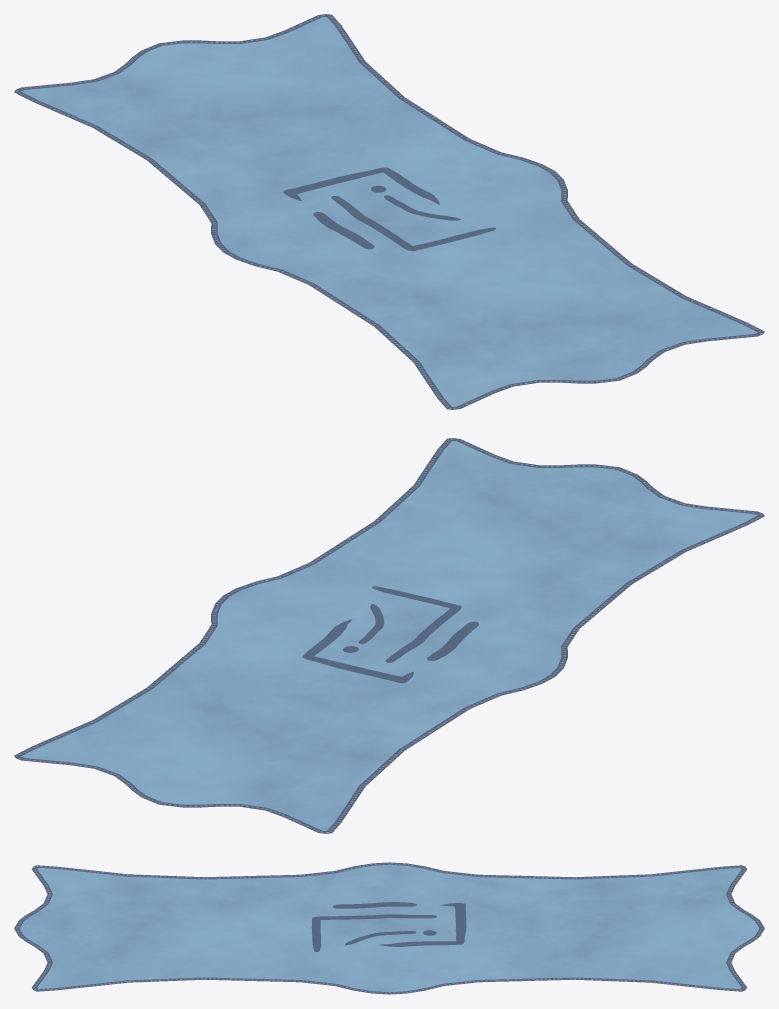
The model's file is Teppich_01.fbx.
3 views of the same model, one above another, from view 1: azimuth 30°, elevation 25°; view 2: azimuth 150°, elevation 25°; view 3: azimuth 270°, elevation 25° (orthographic). The views are drawn at different scales.
Parts seen in each view (by area): view 1: Teppich_01; view 2: Teppich_01; view 3: Teppich_01.
Boxes of the visible parts, bbox=[...] form: Teppich_01: bbox=[14, 14, 764, 409]; Teppich_01: bbox=[14, 438, 764, 833]; Teppich_01: bbox=[14, 862, 764, 994].
Size of the model in its own units: 2.19 by 0.00794 by 5.27.
